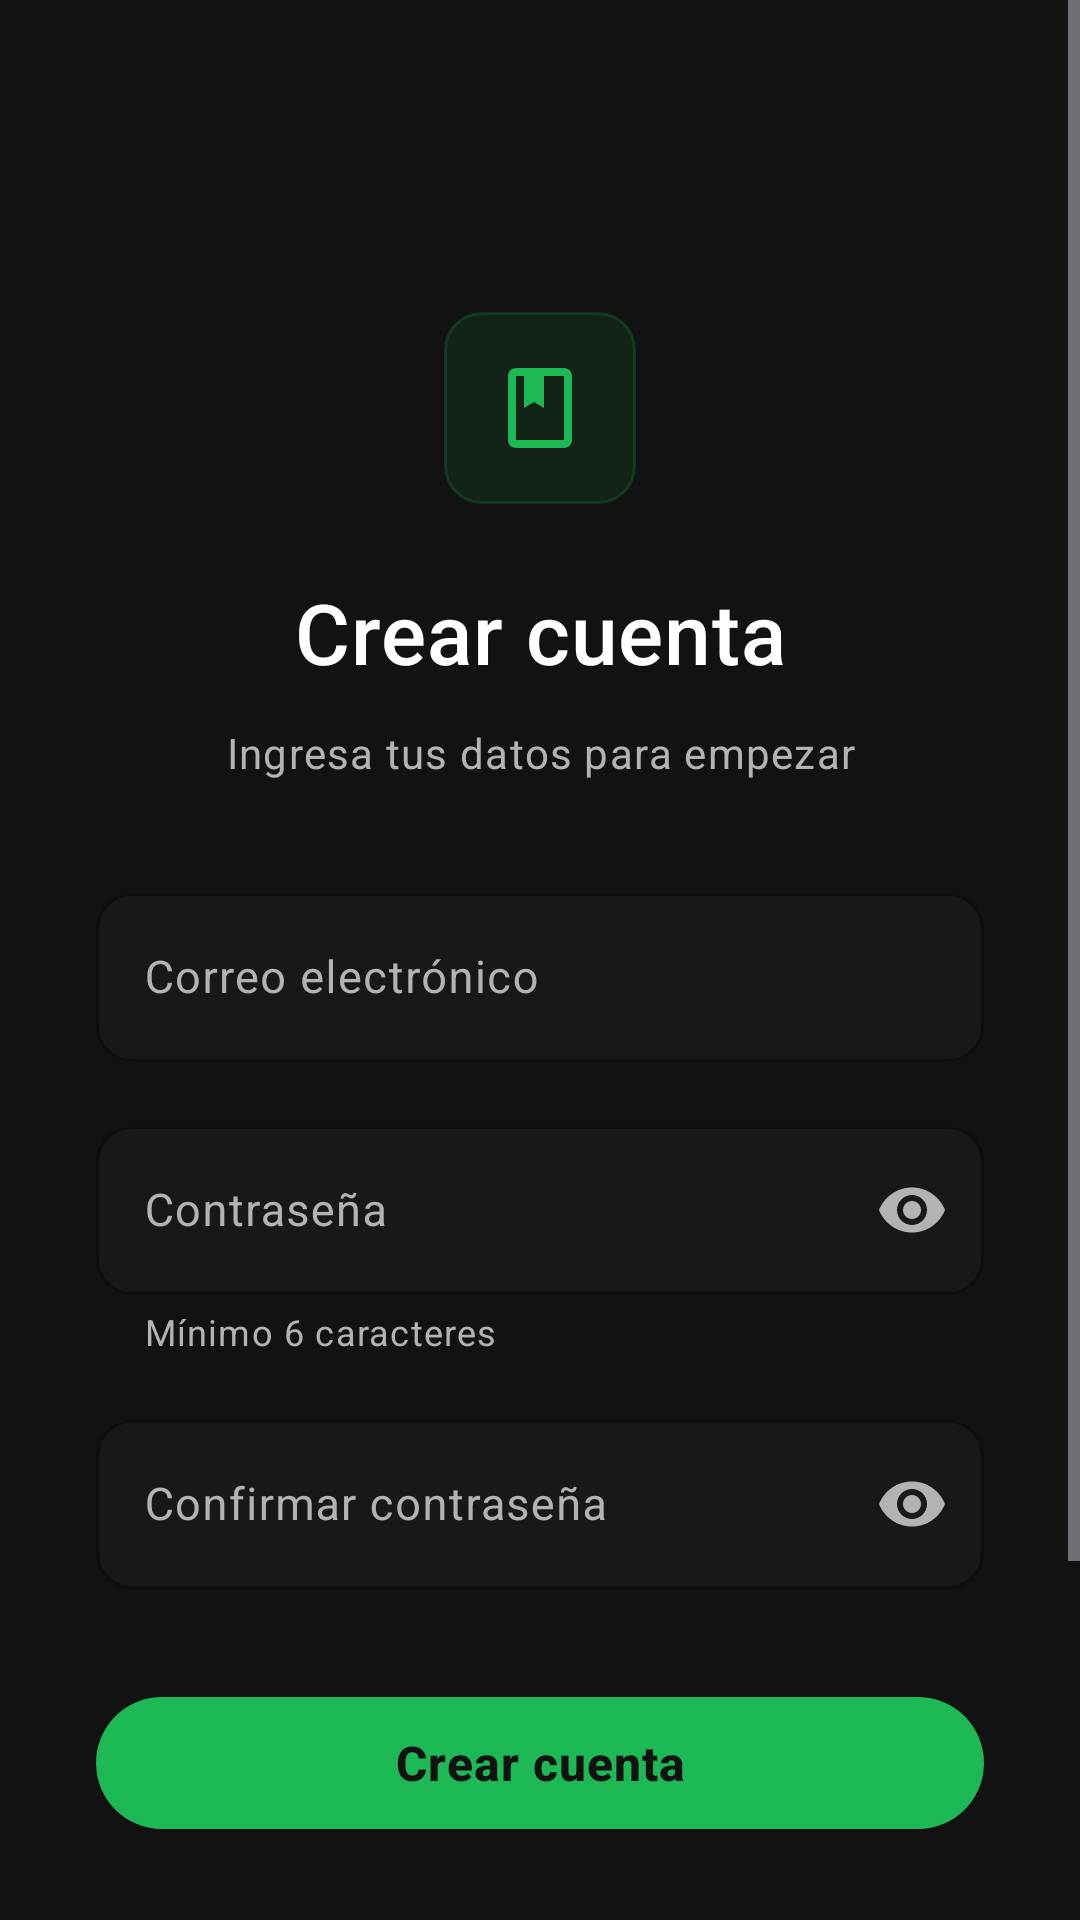

Icon bounding boxes for this 1080 x 1920 phone screenshot, format (x1, y1, x2, y2):
book: (444, 312, 636, 504)
